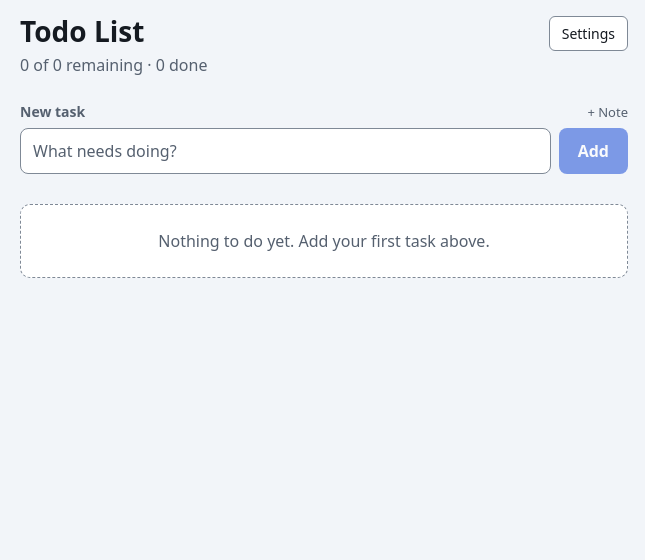
App › keeps a note attached to its own task
Expected: the text "Nothing to do yet. Add your first task above." is shown, [20,204,628,278]
Step 1. Type "First" into the field labelled "New task" → [285, 151], box [20,128,551,174]
Then press Enter
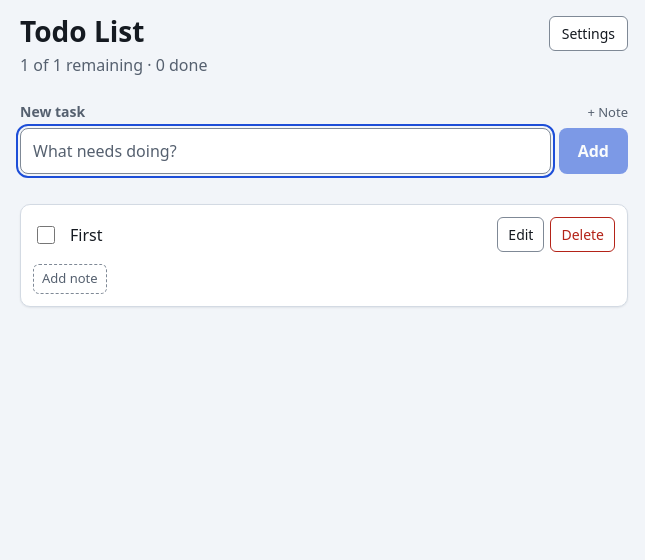
Expected: the text "First" is shown, [70,223,102,247]
Step 2. Type "Second" into the field labelled "New task" → [285, 151], box [20,128,551,174]
Then press Enter
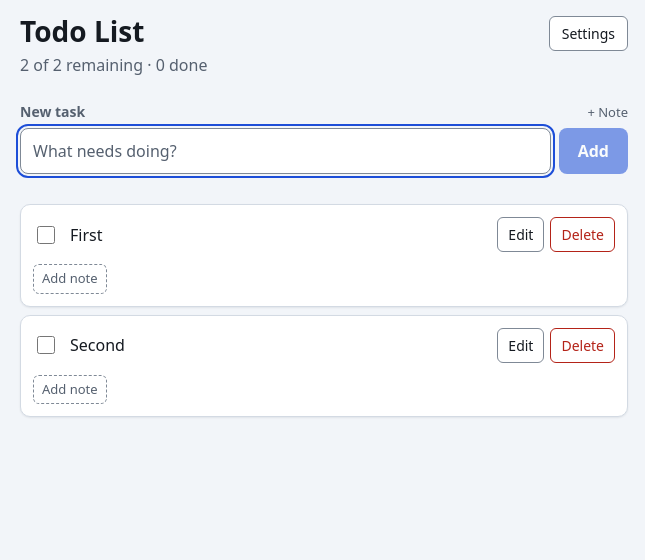
Now the text "Second" is shown, box [70,333,125,357]
Step 3. Click the button "Add note" below "Second" → [70, 389], box [33,375,107,404]
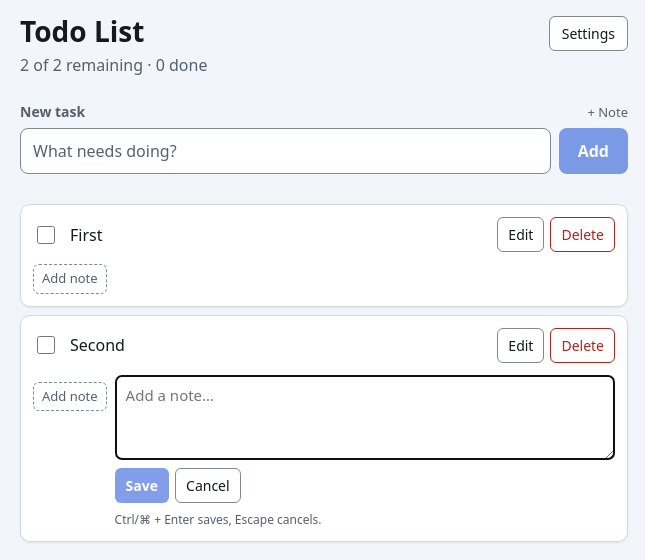
Step 4. Type "Only mine" into the text box named "Note for Second" → [365, 417], box [115,375,615,460]
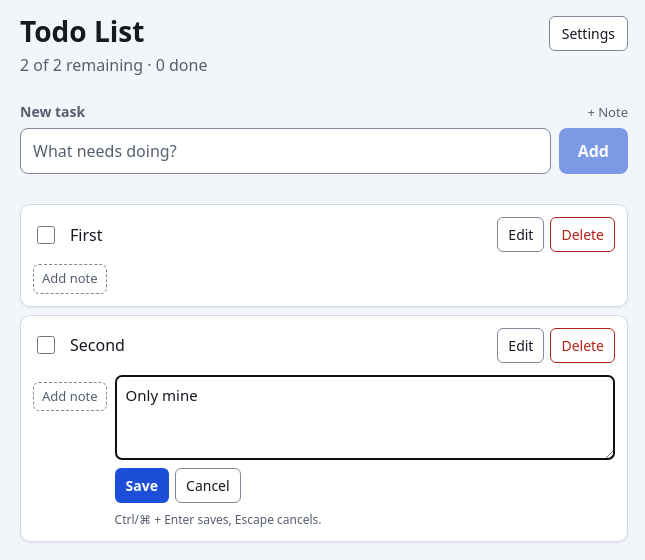
Step 5. Click the button "Save" → [142, 486], box [115,468,169,503]
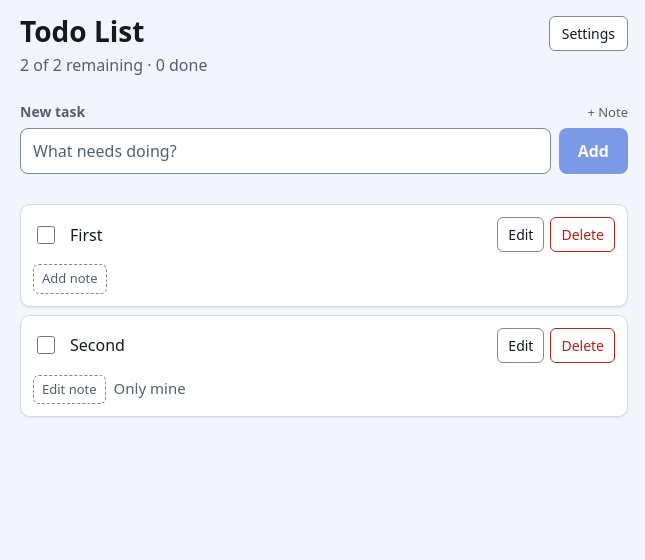
Now the list item "First Edit Delete Add note" is shown, box [20,204,628,307]
Now the list item "Second Edit Delete Edit note Only mine" is shown, box [20,315,628,417]
Now the text "Only mine" is shown, box [114,378,186,398]
